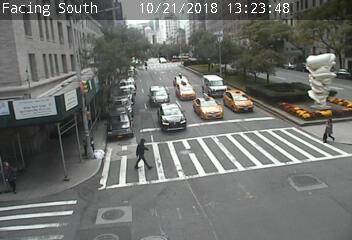car: (158, 103, 185, 133), (194, 95, 222, 120), (223, 90, 252, 111), (203, 75, 226, 97), (149, 86, 169, 106), (176, 83, 194, 100), (173, 75, 187, 88)
